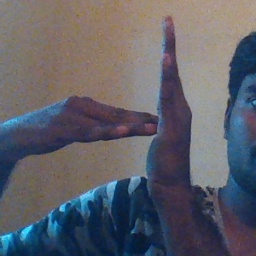Z: (79, 12, 201, 191)
